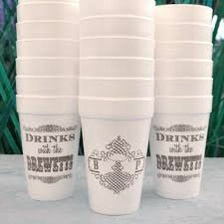paper_cup: (74, 0, 158, 219), (9, 0, 83, 205), (146, 0, 216, 204)
